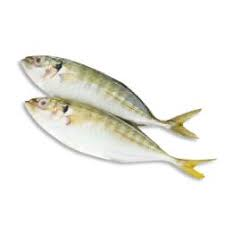Ikan Selar: (24, 93, 213, 181), (18, 54, 188, 97)
